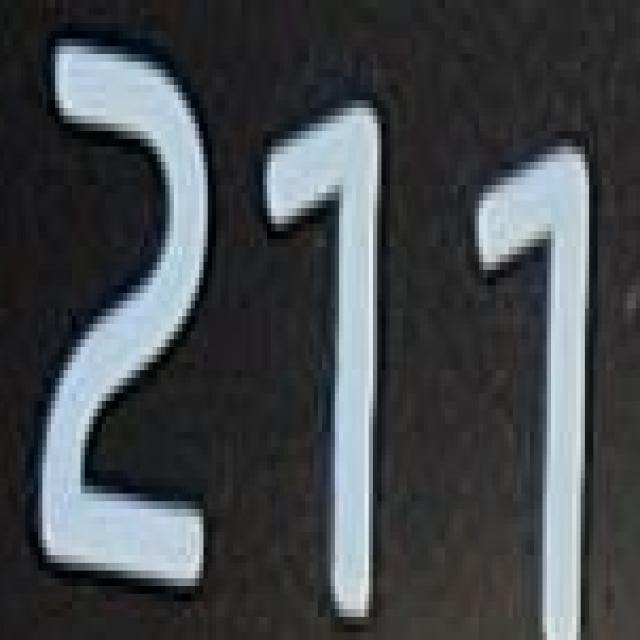character: (31, 31, 213, 600), (462, 123, 598, 640), (258, 93, 384, 632)
